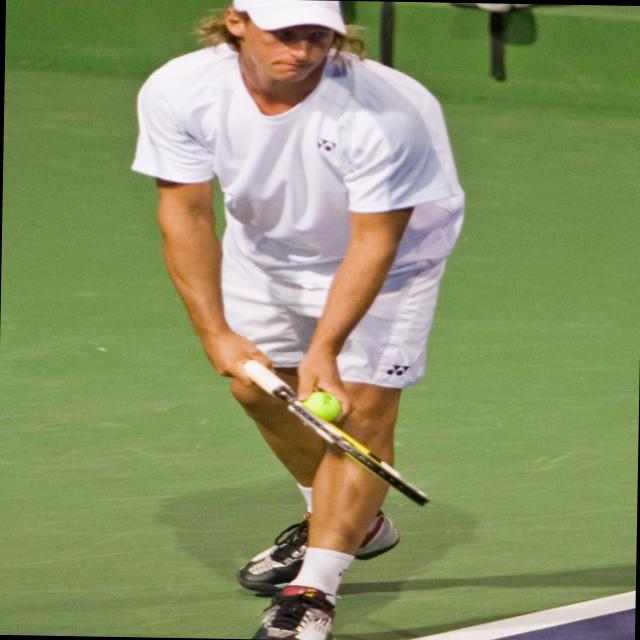Tennis Ball: (296, 388, 341, 422)
